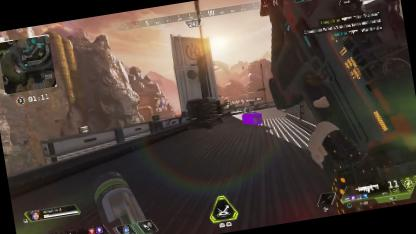Target: (240, 102, 254, 116)
